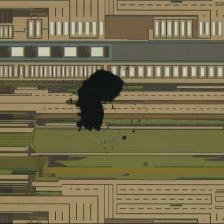PARTICLE: (67, 68, 143, 143)
